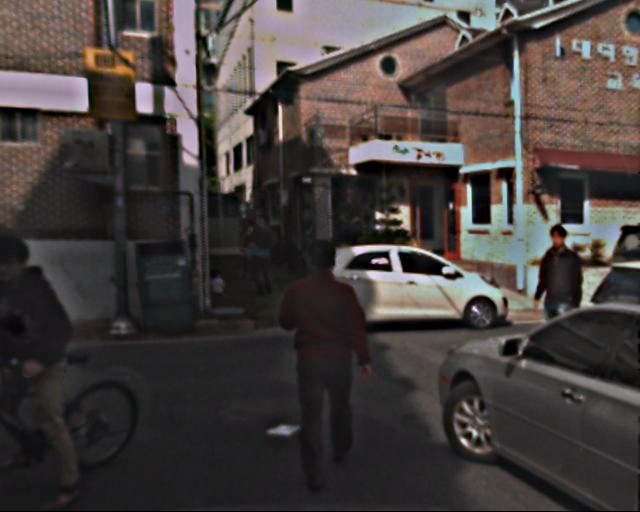person: (273, 237, 374, 485), (524, 223, 600, 416), (247, 212, 287, 302), (238, 218, 264, 283), (210, 266, 224, 301)
